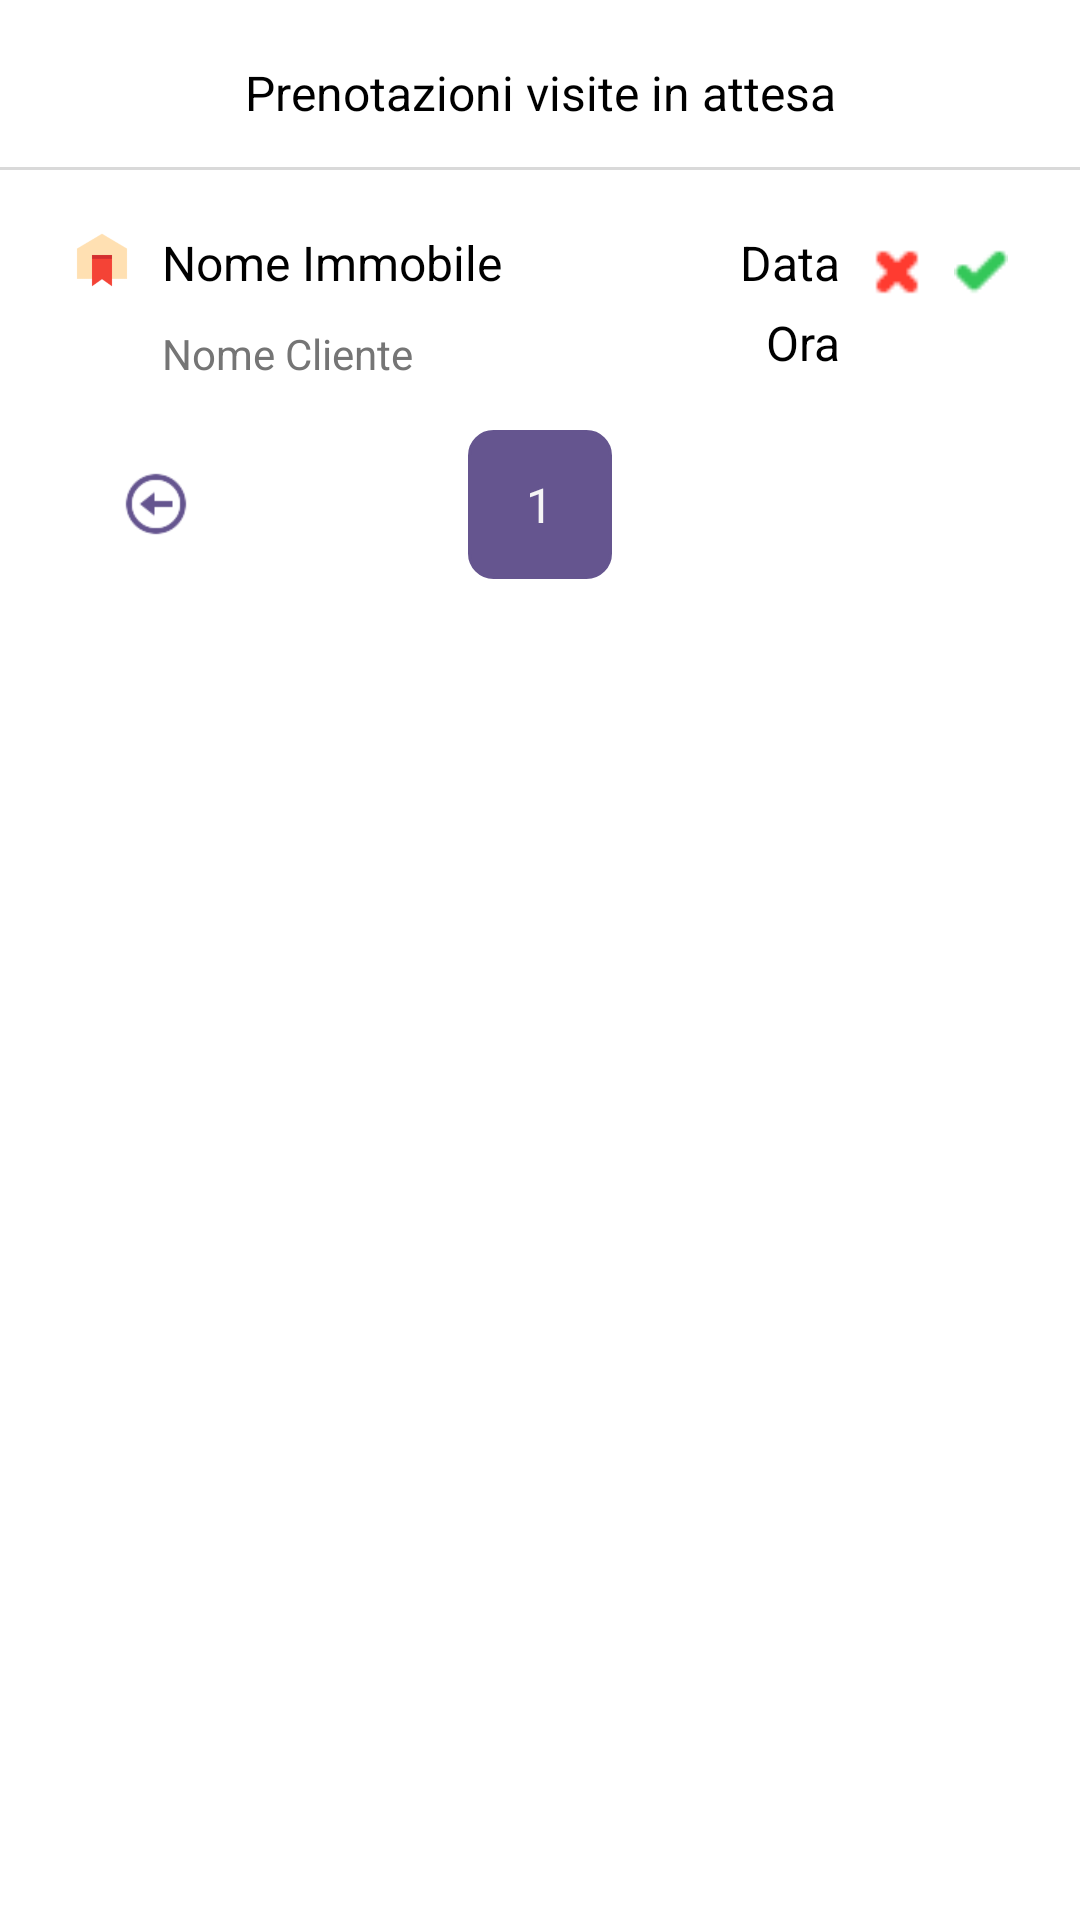

Locate icon controls on the screen. Image size 1080px x 1920px, boxes as (x1, y1, x2, y2).
check: (954, 250, 1008, 292)
left arrow: (125, 473, 187, 535)
refuse: (875, 250, 919, 294)
reservation: (77, 234, 127, 286)
